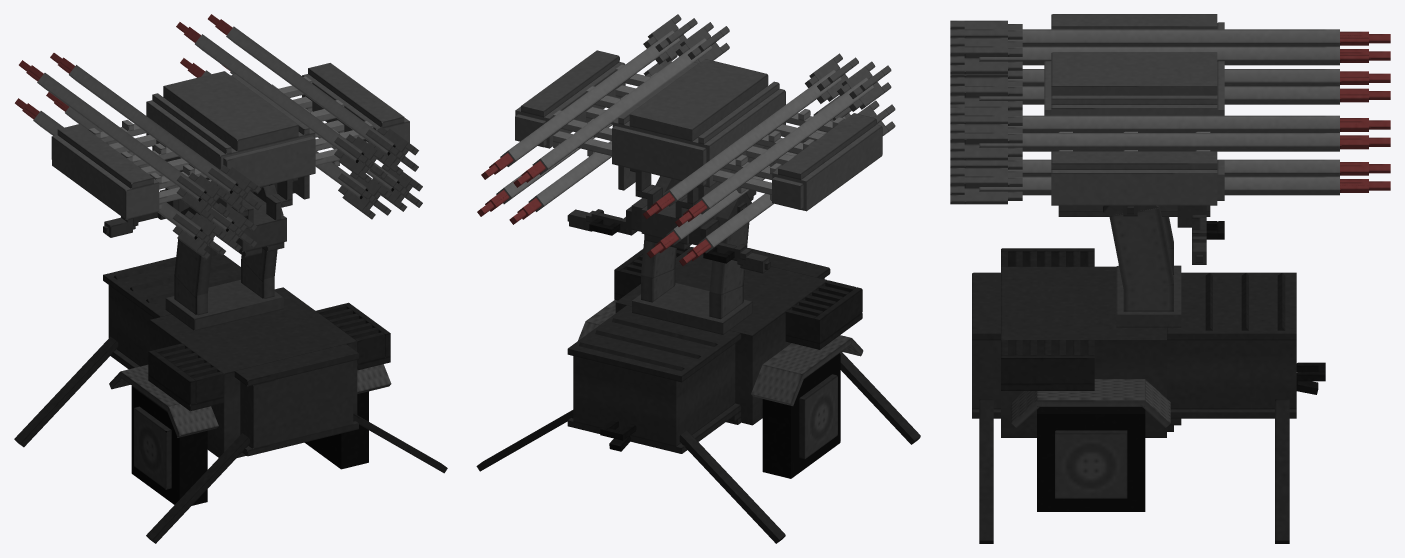
Rendered from missilelauncher.obj.
3 views of the same model, side by side, from view 1: azimuth 30°, elevation 25°; view 2: azimuth 150°, elevation 25°; view 3: azimuth 270°, elevation 25° (orthographic). The views are drawn at different scales.
Parts seen in each view (by area): view 1: baseModel246, baseModel289, baseModel239, baseModel235, baseModel247, baseModel9, baseModel194, baseModel273, baseModel191, baseModel101, baseModel119, baseModel137 (+27 smaller); view 2: baseModel283, baseModel246, baseModel239, baseModel273, baseModel247, baseModel193, baseModel9, baseModel235, baseModel101, baseModel191, baseModel119, baseModel137 (+27 smaller); view 3: baseModel246, baseModel283, baseModel239, baseModel273, baseModel248, baseModel191, baseModel236, baseModel101, baseModel137, baseModel277, baseModel119, baseModel3 (+25 smaller).
Boxes of the visible parts, left/top/right/bottom form: baseModel246: left=149, top=287, right=357, bottom=457; baseModel289: left=240, top=361, right=353, bottom=449; baseModel239: left=163, top=71, right=298, bottom=151; baseModel235: left=52, top=135, right=159, bottom=219; baseModel247: left=131, top=386, right=207, bottom=505; baseModel9: left=165, top=280, right=283, bottom=330; baseModel194: left=223, top=136, right=315, bottom=186; baseModel273: left=103, top=249, right=240, bottom=318; baseModel191: left=226, top=26, right=396, bottom=155; baseModel101: left=37, top=73, right=207, bottom=201; baseModel119: left=69, top=65, right=238, bottom=193; baseModel137: left=195, top=34, right=364, bottom=162; baseModel283: left=573, top=343, right=735, bottom=446; baseModel246: left=615, top=247, right=827, bottom=425; baseModel239: left=629, top=59, right=768, bottom=141; baseModel273: left=567, top=305, right=741, bottom=382; baseModel247: left=762, top=353, right=840, bottom=478; baseModel193: left=612, top=126, right=706, bottom=186; baseModel9: left=632, top=282, right=752, bottom=334; baseModel235: left=772, top=124, right=882, bottom=211; baseModel101: left=694, top=77, right=873, bottom=214; baseModel191: left=500, top=30, right=680, bottom=166; baseModel119: left=662, top=69, right=841, bottom=206; baseModel137: left=532, top=38, right=712, bottom=174; baseModel246: left=1001, top=266, right=1166, bottom=437; baseModel283: left=1167, top=340, right=1296, bottom=409; baseModel239: left=1051, top=52, right=1217, bottom=95; baseModel273: left=1167, top=272, right=1296, bottom=340; baseModel248: left=1037, top=407, right=1145, bottom=511; baseModel191: left=979, top=133, right=1339, bottom=151; baseModel236: left=1051, top=170, right=1217, bottom=205; baseModel101: left=1008, top=29, right=1339, bottom=46; baseModel137: left=1008, top=115, right=1339, bottom=132; baseModel277: left=1055, top=430, right=1127, bottom=498; baseModel119: left=979, top=46, right=1339, bottom=65; baseModel3: left=1109, top=206, right=1173, bottom=288.
Size of the model in its own units: 53.1 by 60.52 by 61.
